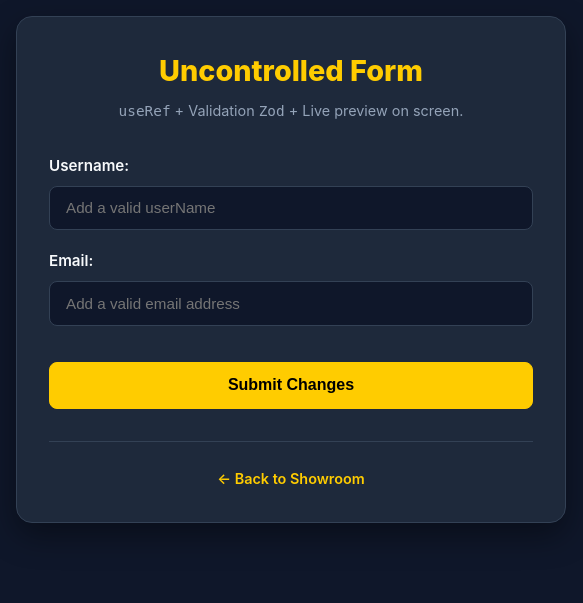
ProfileForm Component › It should display an error message if username is too short
The image size is (583, 603).
Note: It simulates typing in the username input field
Type "U1" into the field with placeholder "Add a valid userName".
click(291, 208); type("U1")  # box [49,186,533,230]
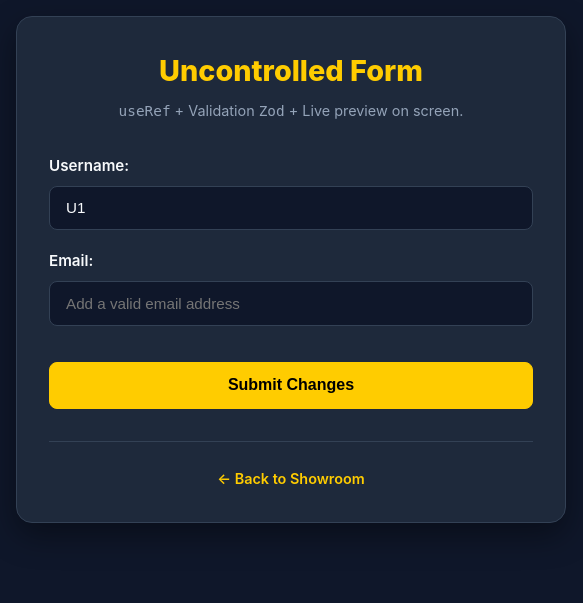
Note: It simulates clicking the submit button
Click the button "Submit Changes".
click(291, 385)  # box [49,362,533,409]
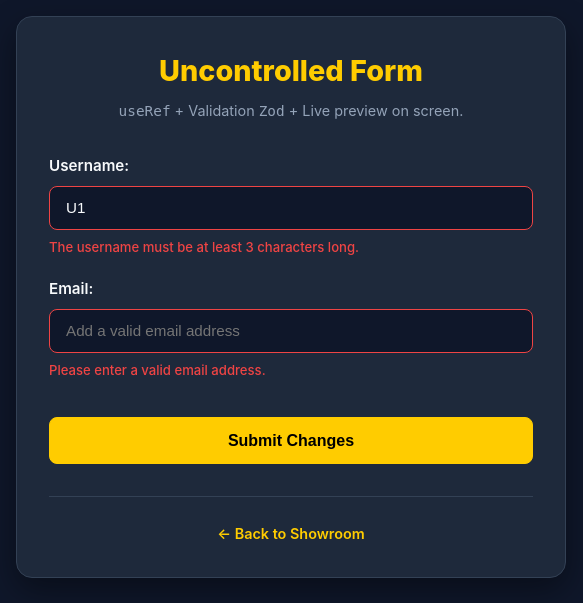
Expected: the text "The username must be at least 3 characters long." is shown, [49,239,359,255]
